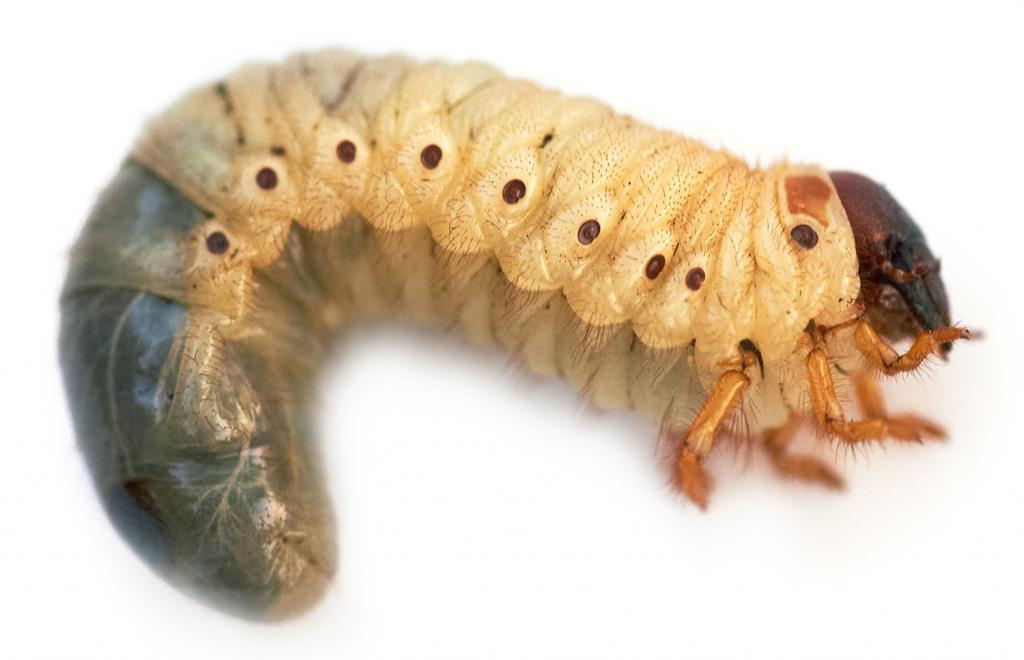grub: (38, 40, 990, 628)
